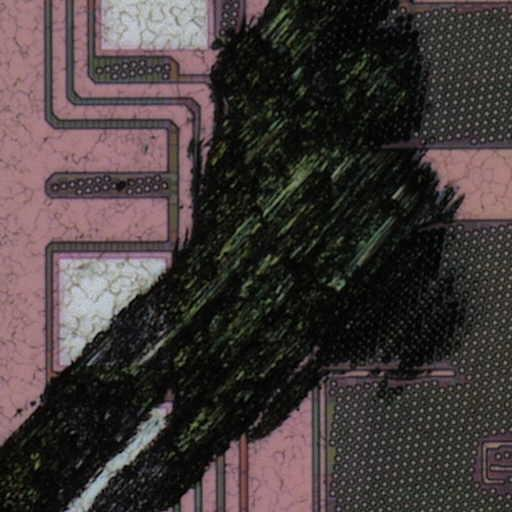SCRATCH: (1, 1, 486, 512)
